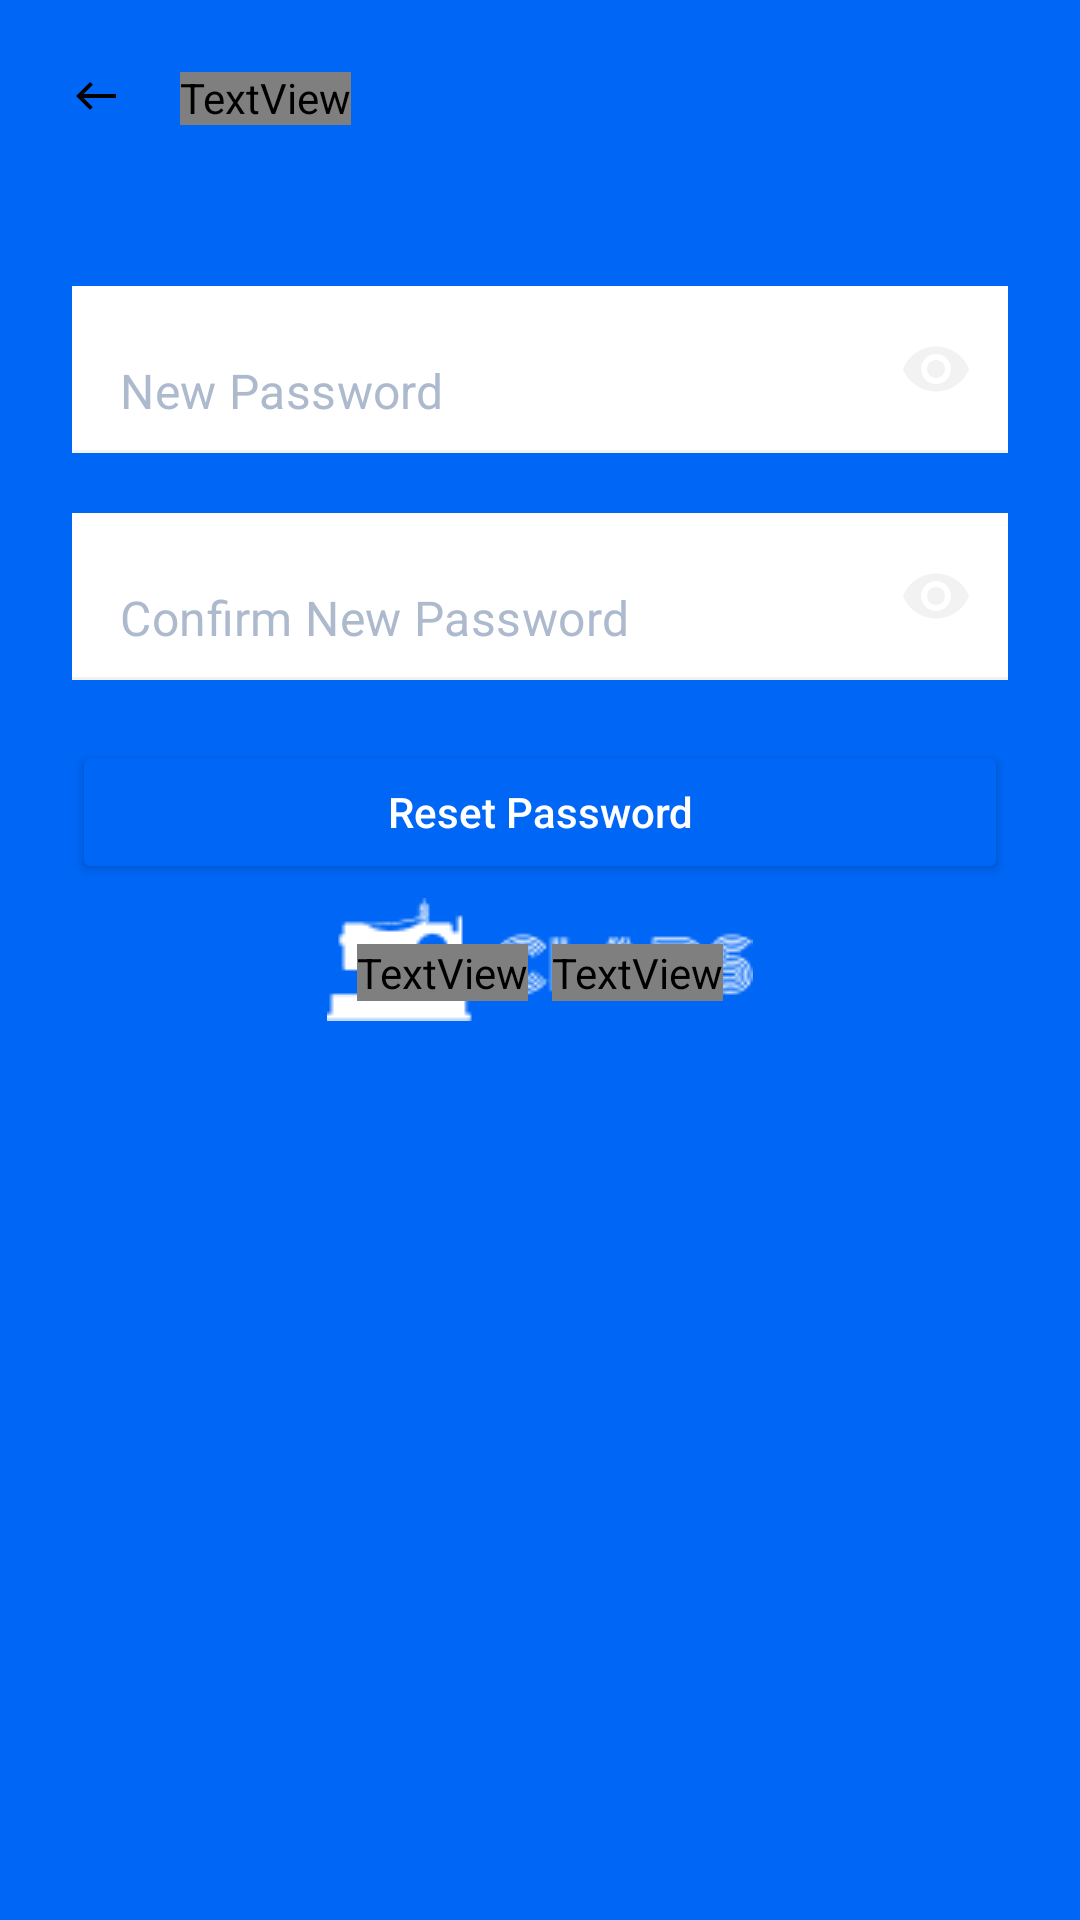

Icon bounding boxes for this 1080w x 1920h phone screenshot, format (left=x1, top=y1, right=x2, bottom=y2):
back: (left=76, top=82, right=116, bottom=110)
